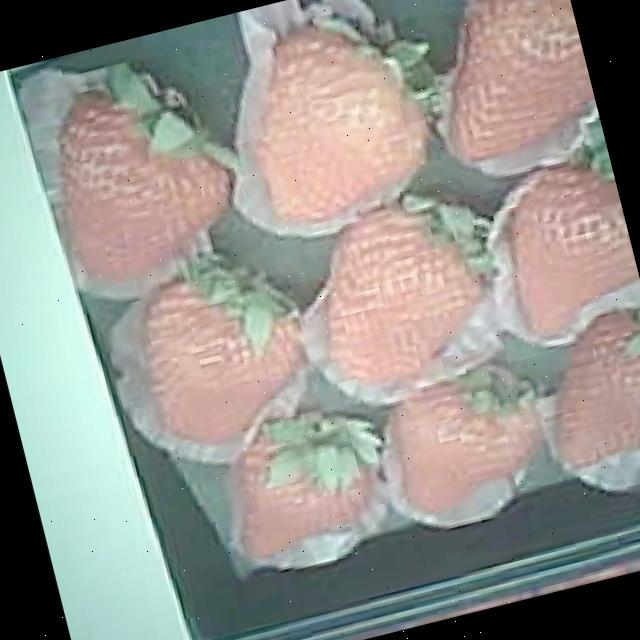strawberry: (227, 3, 440, 232), (35, 69, 244, 290), (125, 255, 321, 453), (300, 192, 494, 392), (416, 0, 602, 166), (491, 154, 640, 332), (380, 364, 548, 516), (212, 416, 380, 560), (529, 302, 640, 471)
